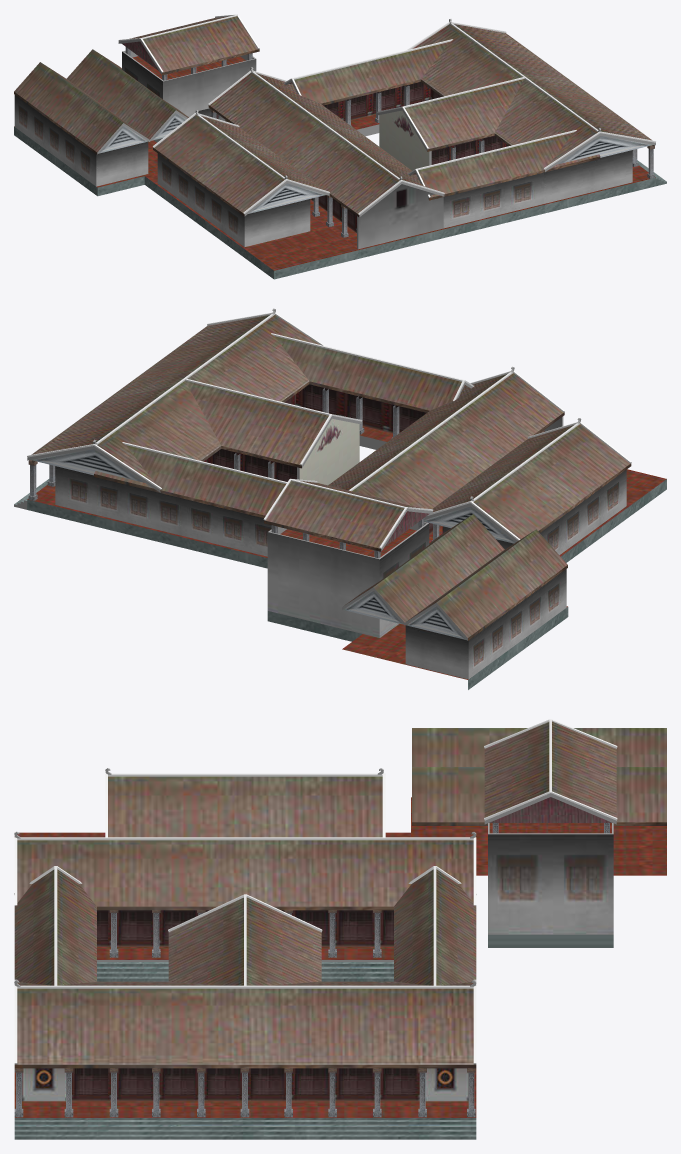
3 renders of one model, top to bottom at view 1: azimuth 30°, elevation 25°; view 2: azimuth 150°, elevation 25°; view 3: azimuth 270°, elevation 25°, orthographic. The views are drawn at different scales.
Parts seen in each view (by area): view 1: 5c47e415f65c2edf3c7c96b4.001; view 2: 5c47e415f65c2edf3c7c96b4.001; view 3: 5c47e415f65c2edf3c7c96b4.001.
Boxes of the visible parts, x1,y1,x2,y2 form: 5c47e415f65c2edf3c7c96b4.001: (14, 14, 666, 279); 5c47e415f65c2edf3c7c96b4.001: (14, 308, 666, 689); 5c47e415f65c2edf3c7c96b4.001: (14, 719, 666, 1139).
Bounding box in the file's own units: 39.64 × 8.84 × 33.25.
Materials: 1 (1 with a texture image).
